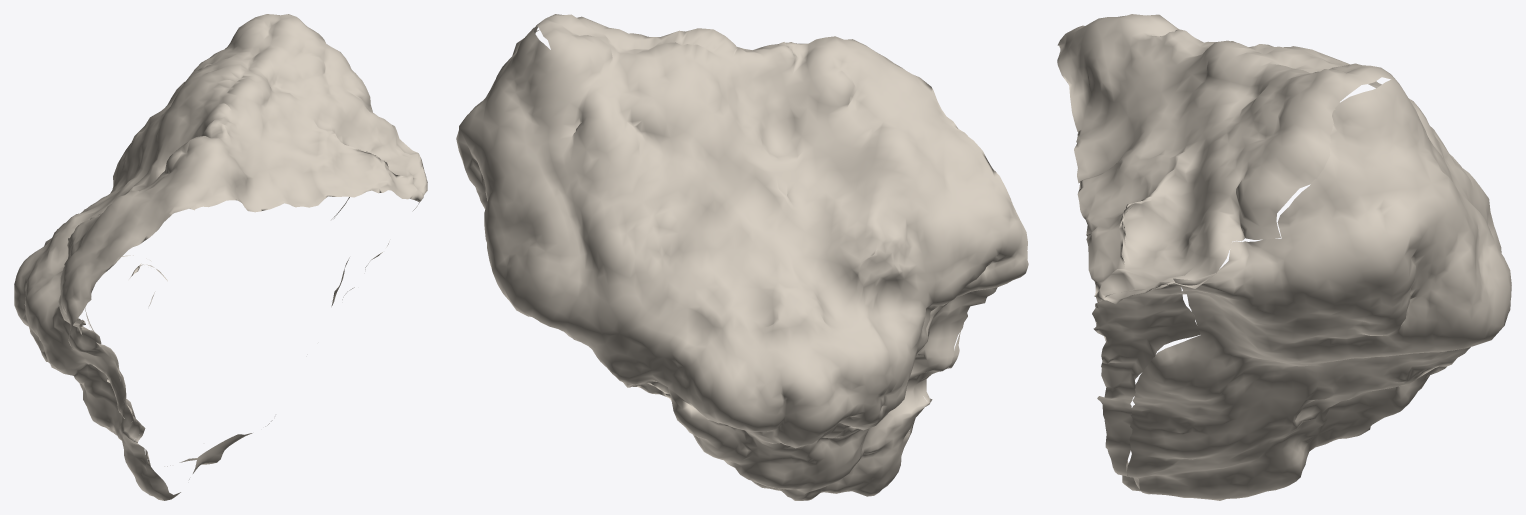
The model's file is gray-big-rock_cand03.glb.
3 views of the same model, side by side, from view 1: azimuth 30°, elevation 25°; view 2: azimuth 150°, elevation 25°; view 3: azimuth 270°, elevation 25° (orthographic). The views are drawn at different scales.
Parts seen in each view (by area): view 1: world; view 2: world; view 3: world.
Part boxes in pixels (x1,y1,x2,y2): world: (14, 14, 427, 500); world: (456, 14, 1028, 500); world: (1057, 14, 1511, 500).
Size of the model in its own units: 1.66 by 1.63 by 1.21.
